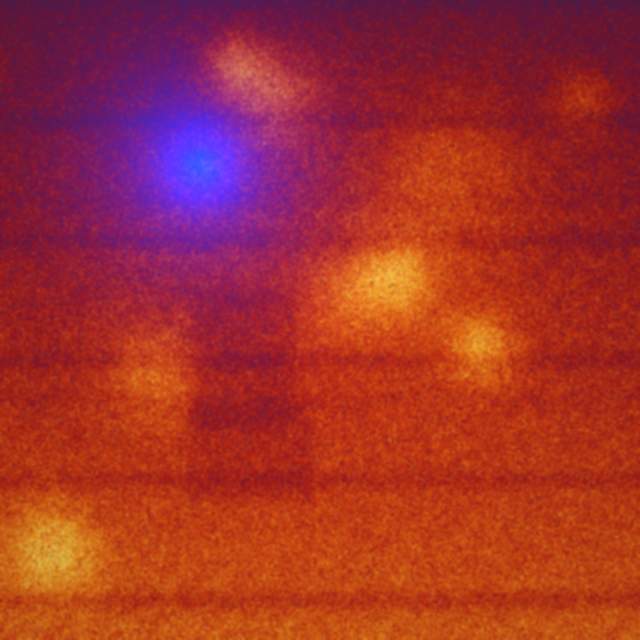nozzle: (146, 115, 250, 206)
